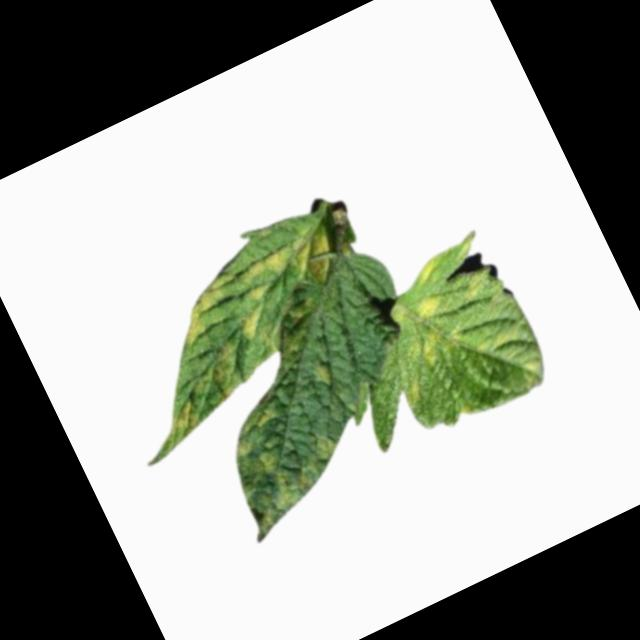Leaf_Mold: (209, 375, 367, 539), (240, 222, 344, 305), (389, 286, 474, 378), (166, 281, 237, 350), (201, 340, 252, 399), (161, 394, 206, 439), (457, 263, 501, 305), (236, 305, 275, 344), (399, 376, 433, 411), (310, 356, 343, 389)
